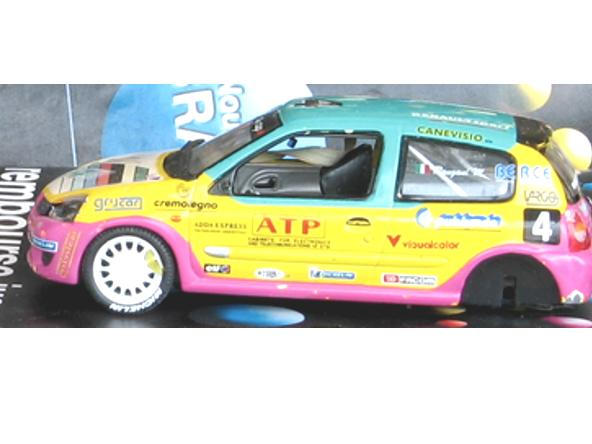toy-car: (25, 95, 592, 315)
